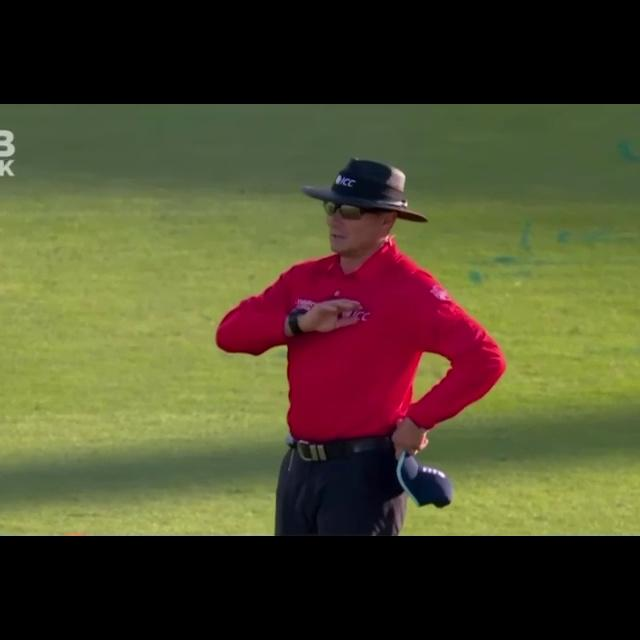umpire: (205, 145, 518, 536)
